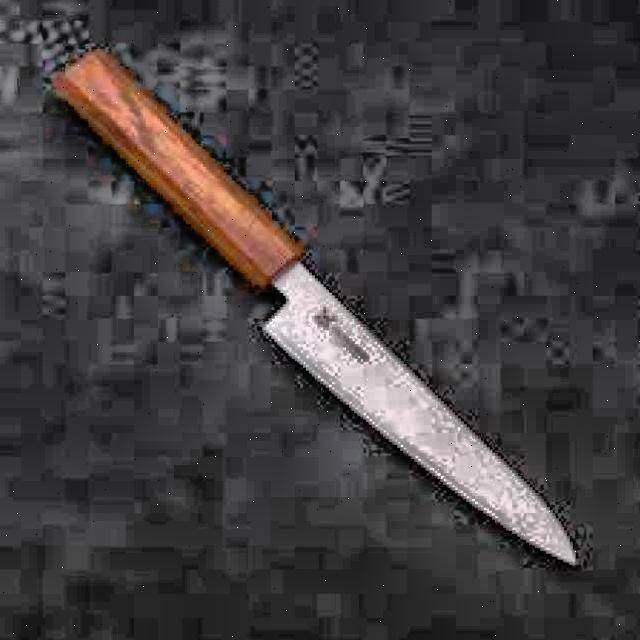knife: (53, 44, 586, 568)
